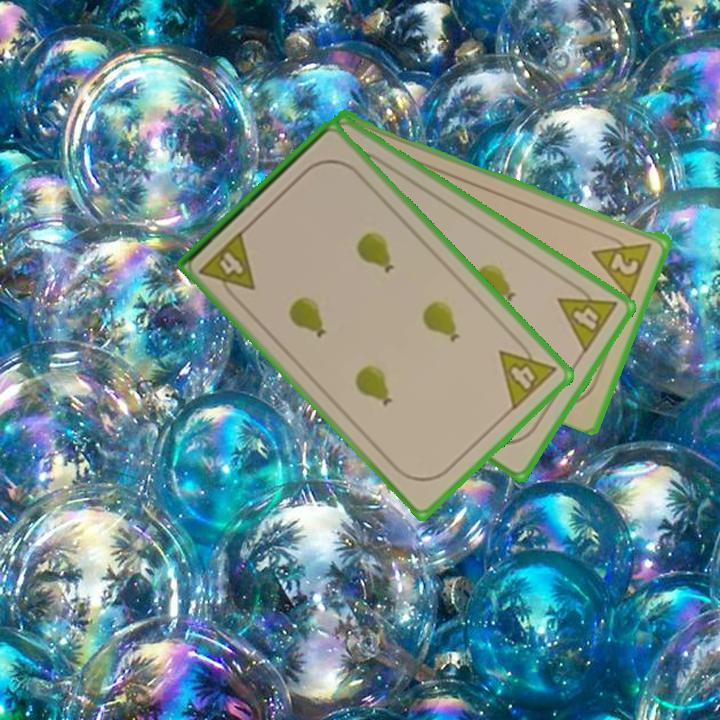2p: (589, 230, 656, 299)
4p: (554, 277, 621, 356), (495, 333, 559, 413), (196, 227, 261, 305)
